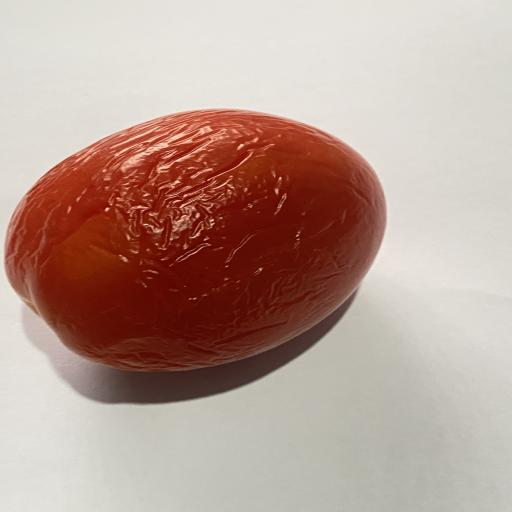spoiled: (5, 109, 386, 371)
